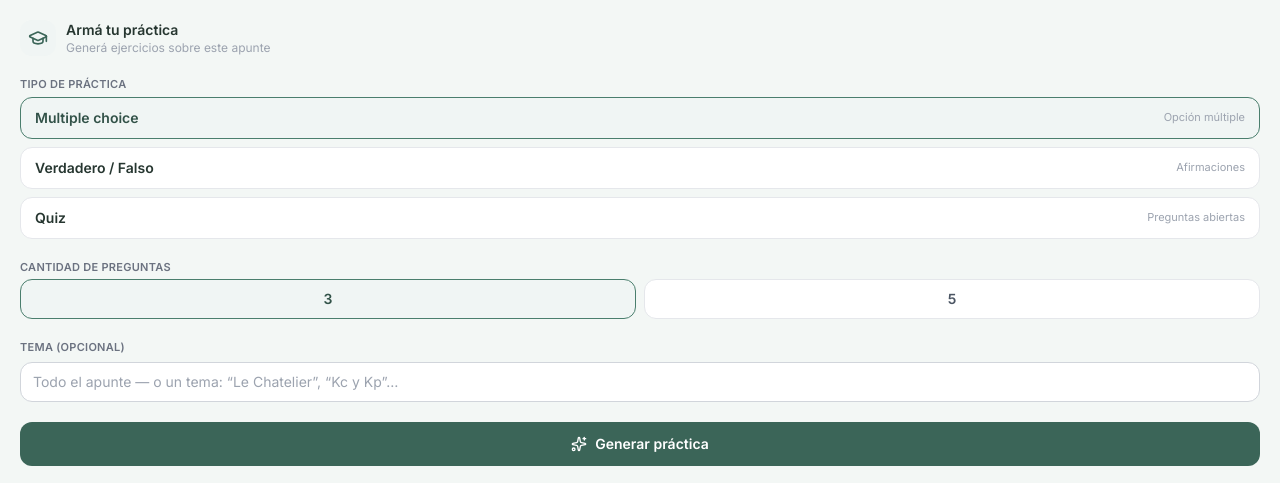
it: StudyPanel › respeta la cantidad elegida (5) en el payload
Click the button "5": (952, 299) [644,279,1260,319]
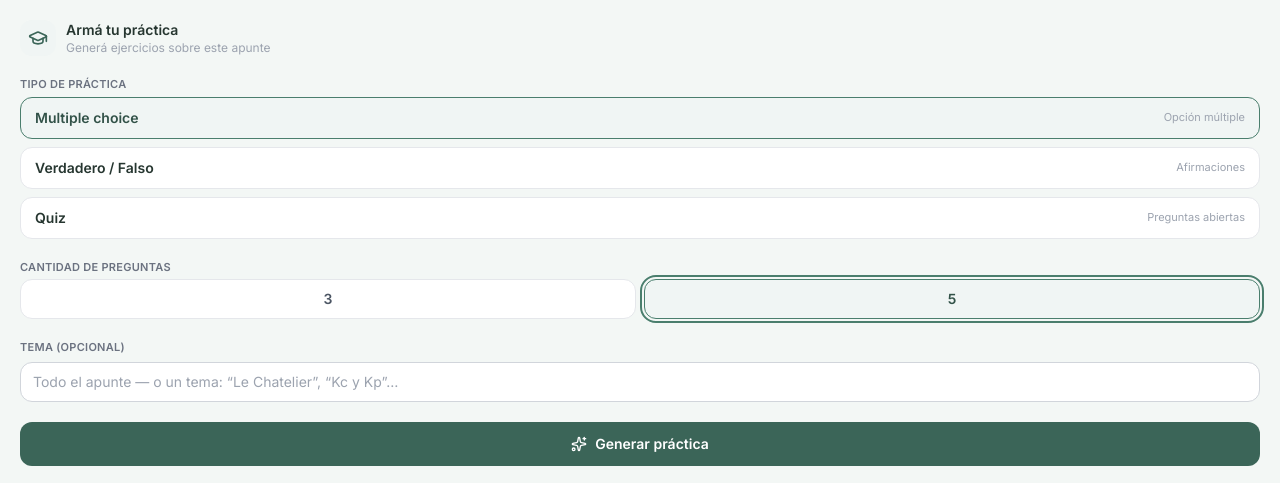
Click the button "Generar práctica": (640, 444) [20,422,1260,466]
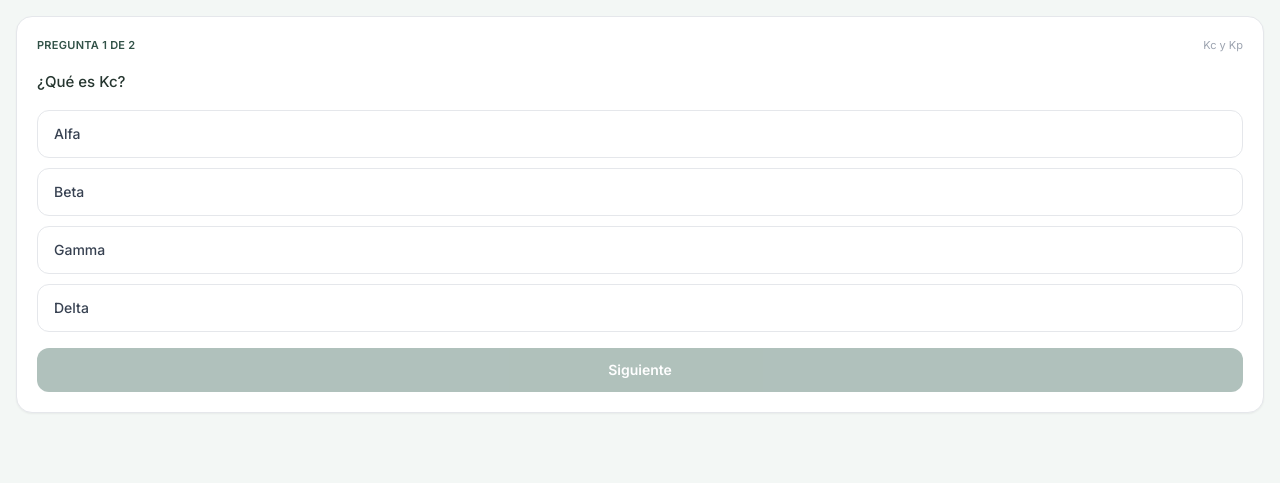
Expected: the text "Pregunta 1 de 2" is shown, [37,37,136,54]
